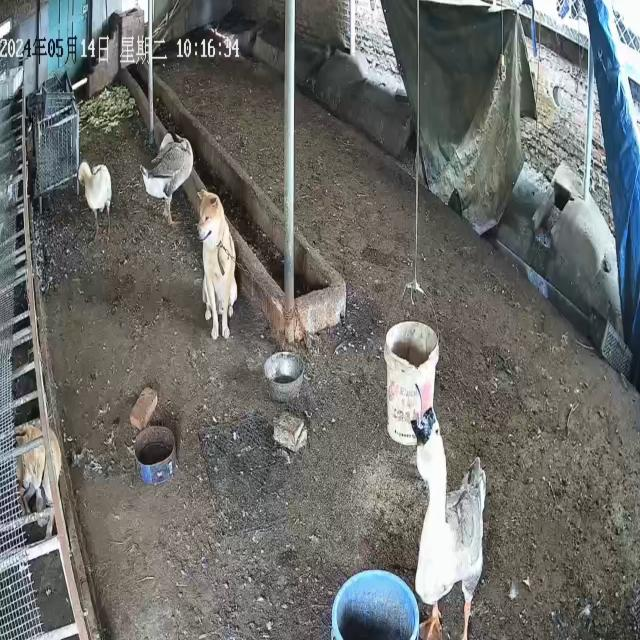dog: (9, 424, 63, 552), (197, 189, 239, 341)
